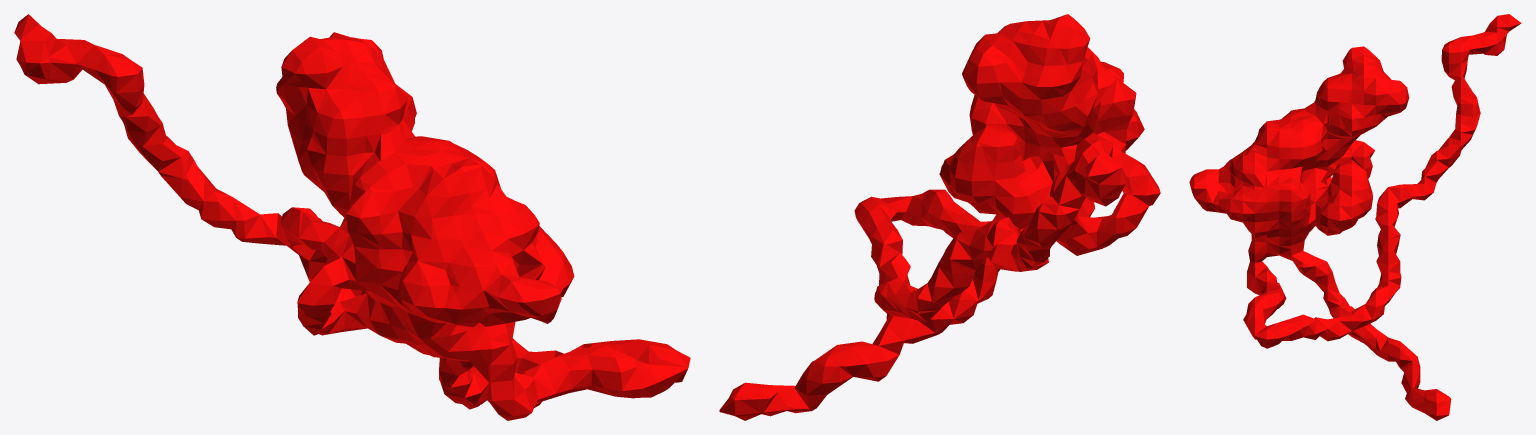
The model's file is ppiD_coarse.dae.
3 views of the same model, side by side, from view 1: azimuth 30°, elevation 25°; view 2: azimuth 150°, elevation 25°; view 3: azimuth 270°, elevation 25° (orthographic). The views are drawn at different scales.
Visible parts, largest first — view 1: ppiD; view 2: ppiD; view 3: ppiD.
Part boxes in pixels (bbox=[...]): ppiD: bbox=[14, 14, 690, 420]; ppiD: bbox=[719, 14, 1160, 420]; ppiD: bbox=[1189, 14, 1521, 420].
Bounding box in the file's own units: 145 × 132 × 139.
